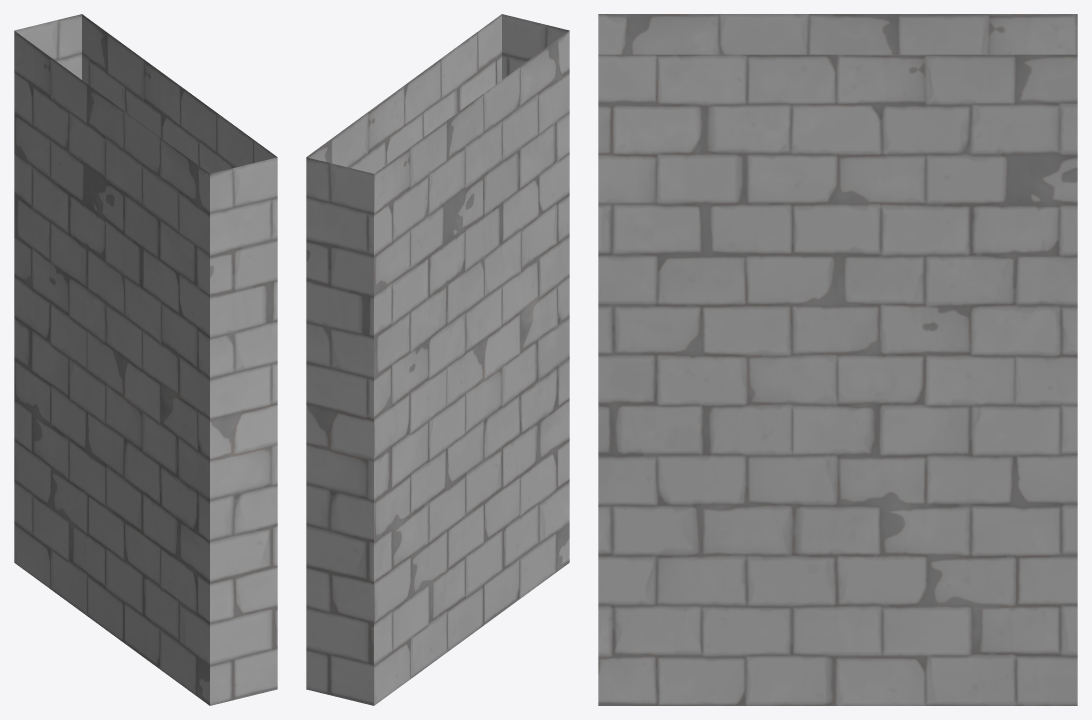
File: Wall2x3_Prototype.fbx
The picture shows the model from 3 angles, left to right: view 1: azimuth 30°, elevation 25°; view 2: azimuth 150°, elevation 25°; view 3: azimuth 270°, elevation 25°; orthographic projection. The views are drawn at different scales.
Visible parts, largest first — view 1: Mat_Tile_BrickWall01 4; view 2: Mat_Tile_BrickWall01 4; view 3: Mat_Tile_BrickWall01 4.
Part boxes in pixels (x1,y1,x2,y2): Mat_Tile_BrickWall01 4: (14,14,277,705); Mat_Tile_BrickWall01 4: (306,14,569,705); Mat_Tile_BrickWall01 4: (598,14,1077,705).
Size of the model in its own units: 0.4 by 3 by 2.
1 material, 1 textured.
